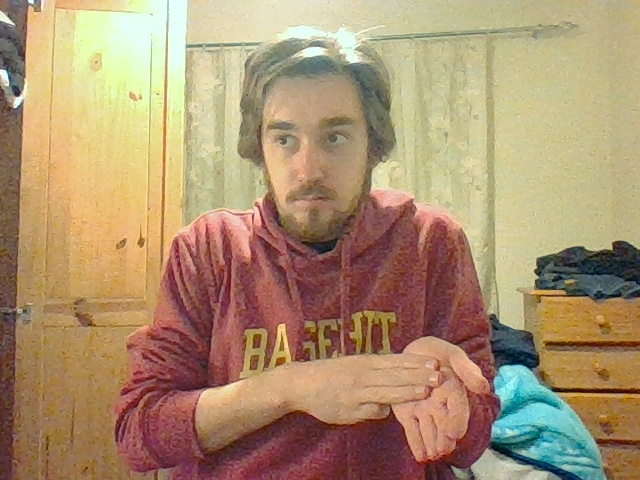mother: (373, 336, 489, 461)
